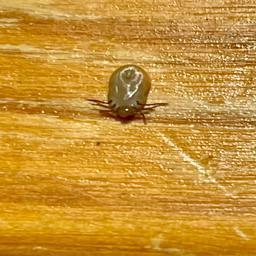Ixodes scapularis: (89, 65, 169, 124)
